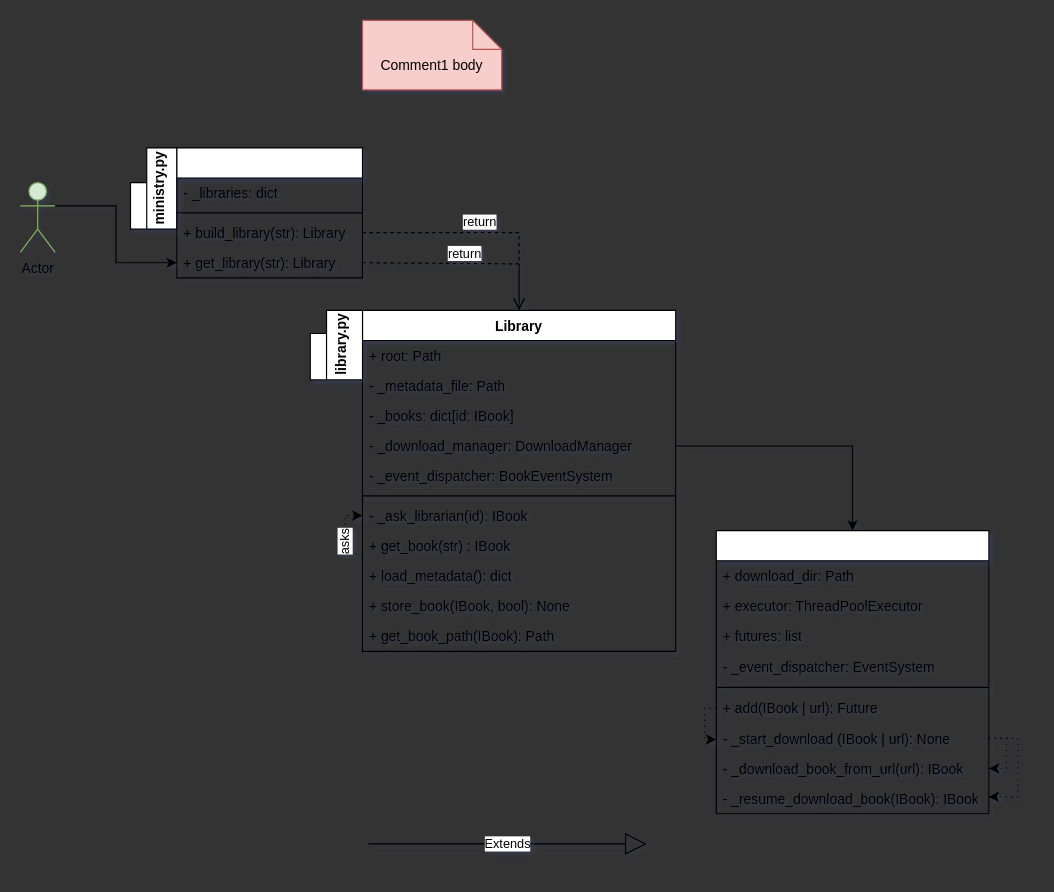
This 1054x892 diagram has some shape labels left out. The shapes that lost their labels are listed below. From the top down, each one's box as (x1, y1, x2, y2) in pixels, then its label:
(176, 147, 362, 278): LibraryMinistry
(715, 530, 989, 814): DownloadManager
